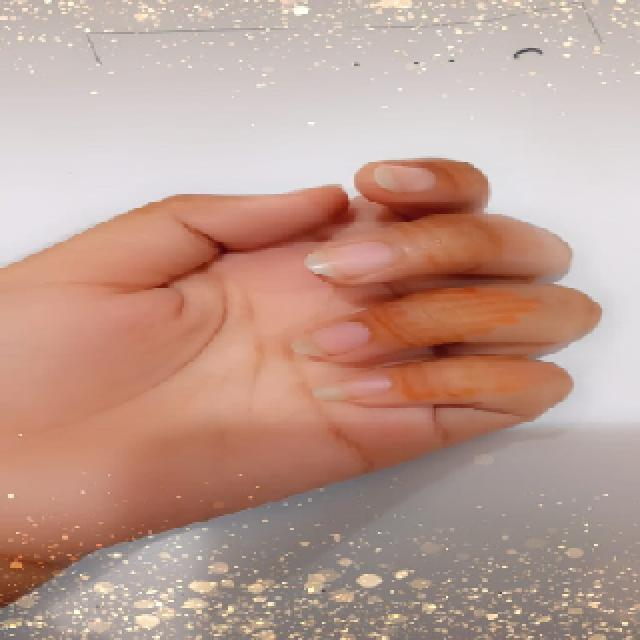Nail: (305, 242, 393, 277), (294, 321, 370, 358), (315, 376, 391, 400), (374, 166, 435, 190)
